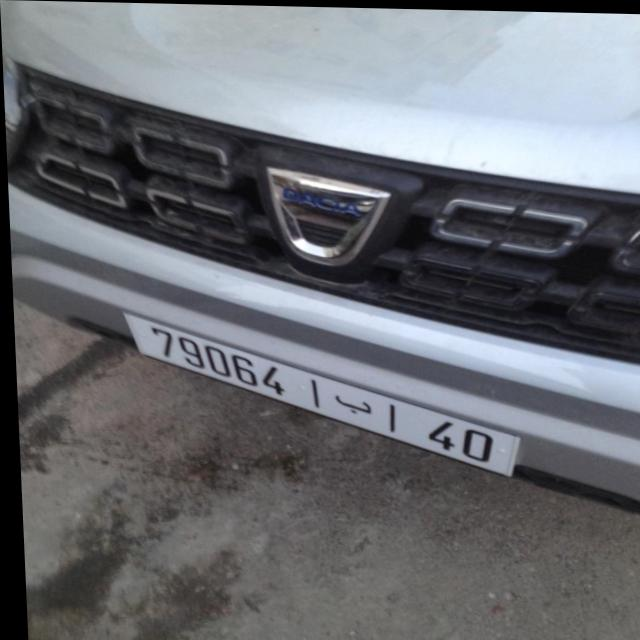License-Plate: (123, 314, 515, 473)
